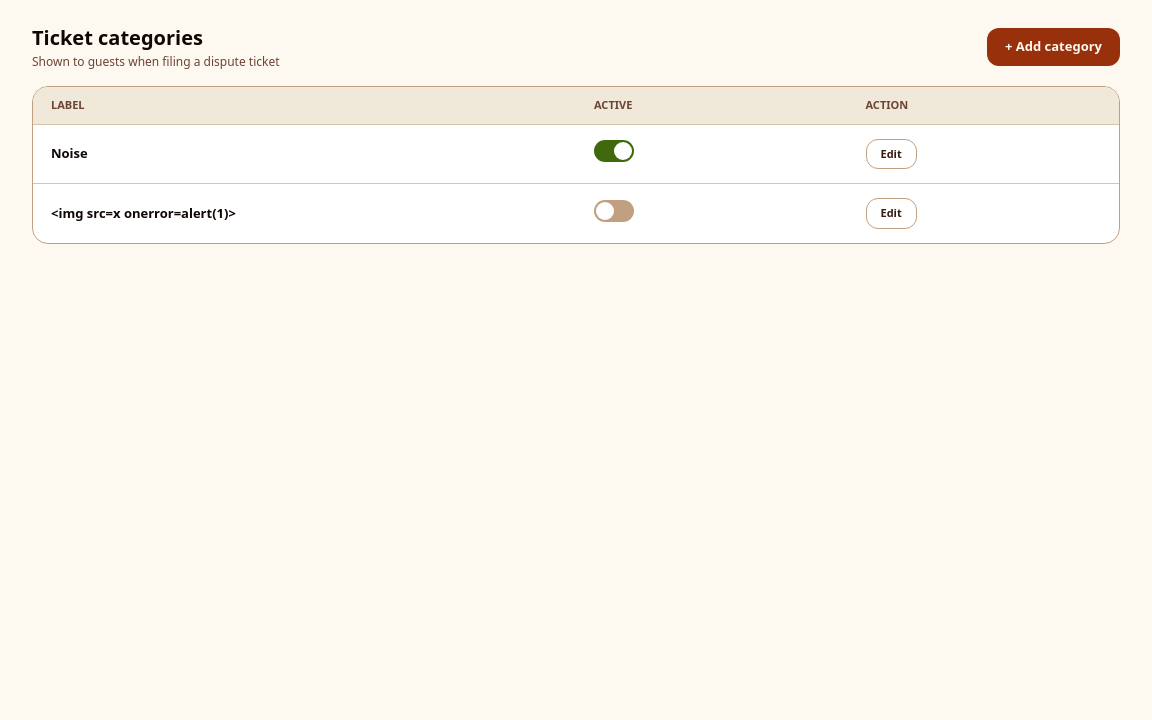
Test: CategoriesTable (F12, F15) › renames a category and shows a duplicate error inline
The width and height of the screenshot is (1152, 720).
Click the button "Edit" in the row of "Noise": (891, 154) [866, 138, 917, 169]
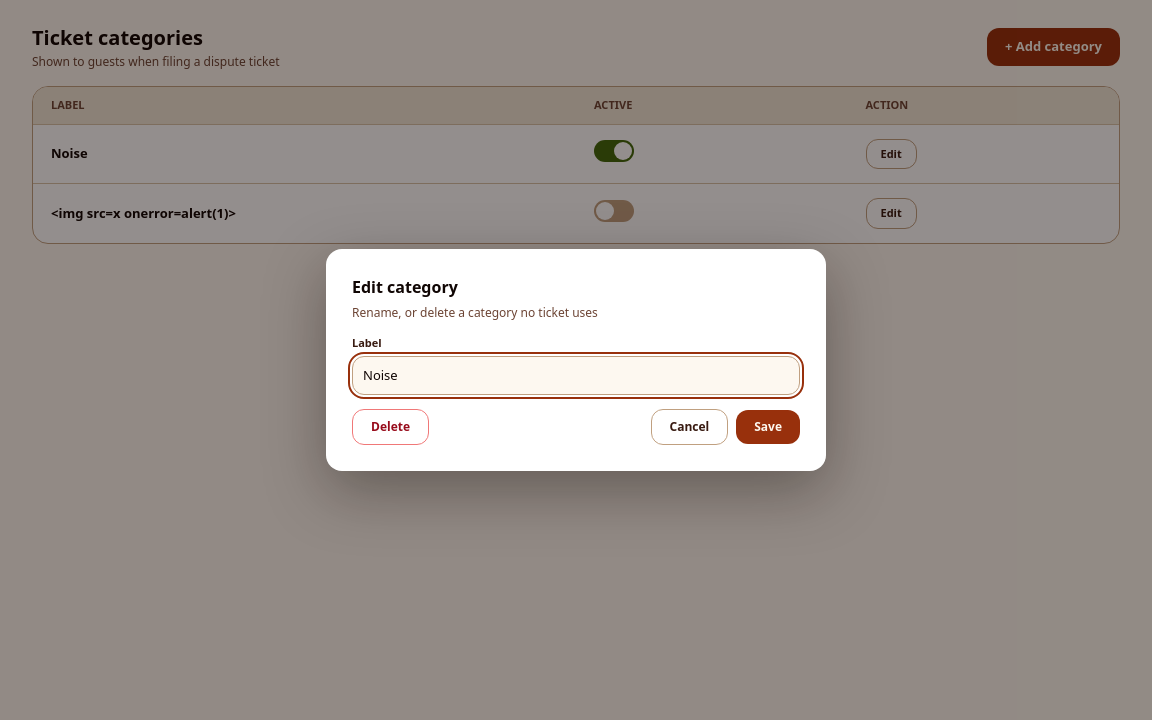
Replace the text in the field labelled "Label" with "Cleanliness": (576, 375) [352, 356, 800, 395]
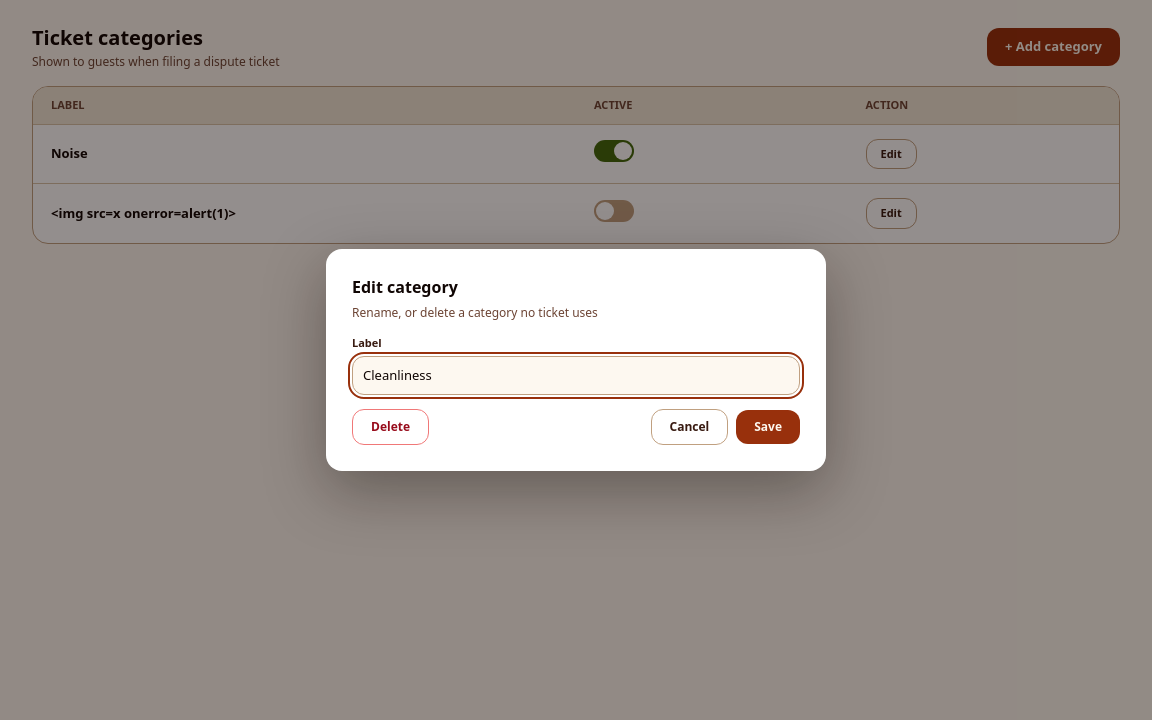
Click the button "Save": (768, 427) [736, 410, 800, 444]
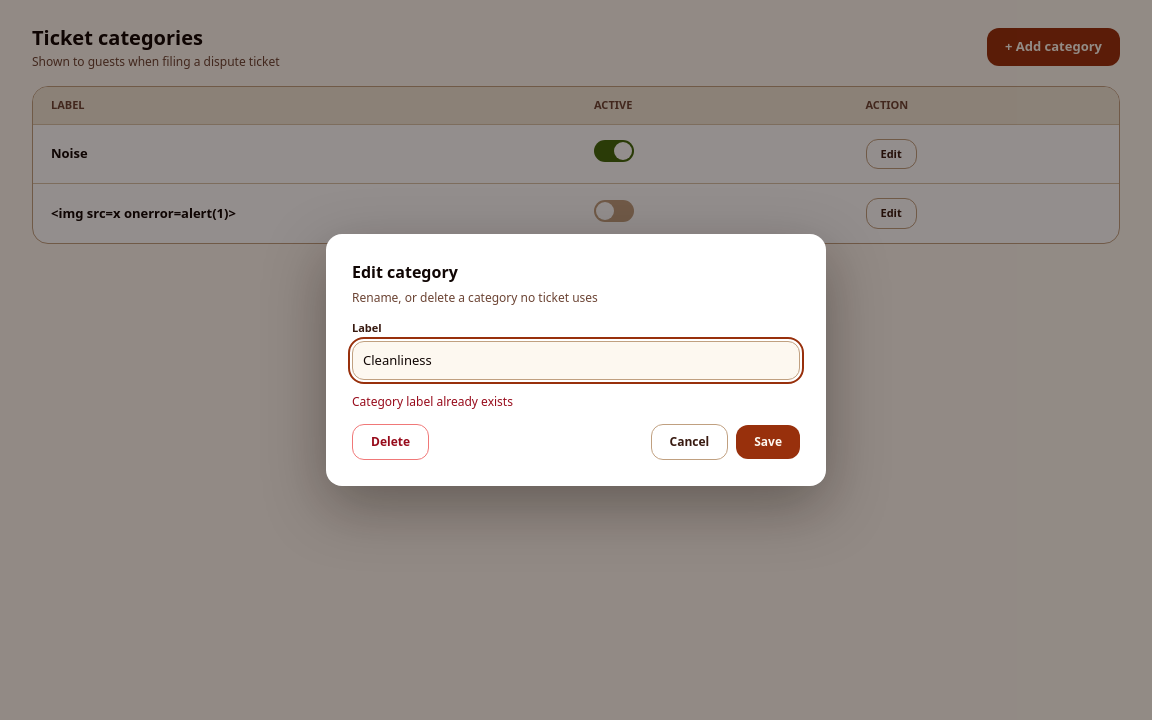
expect the message reads "Category label already exists": met, box [352, 393, 513, 410]
